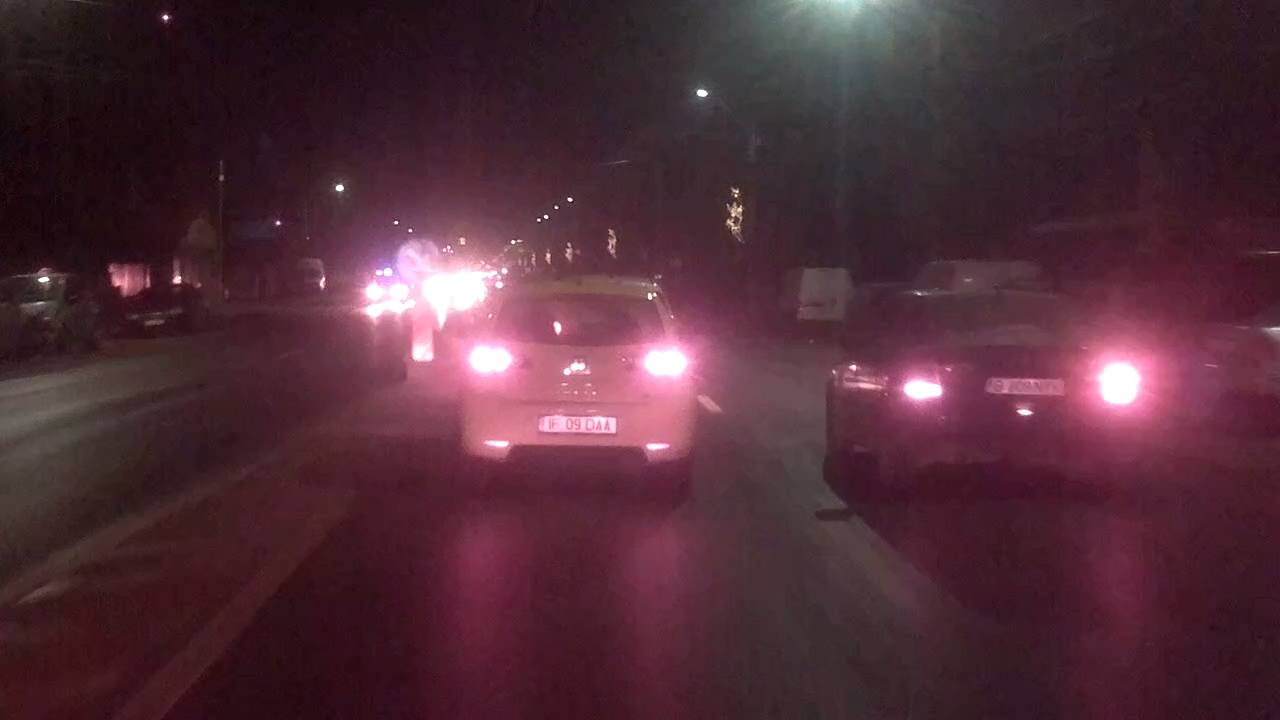license-plate: (534, 411, 621, 437)
